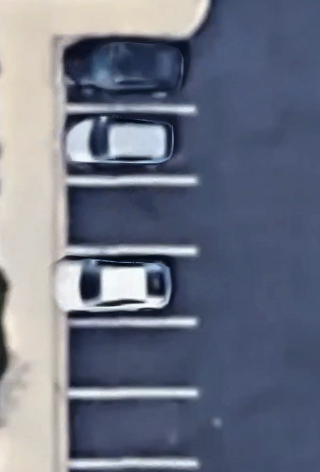Occupied: (62, 110, 197, 182), (62, 252, 197, 322), (61, 40, 197, 109)
Vacant: (62, 322, 199, 394), (63, 393, 198, 464), (62, 183, 197, 252)
